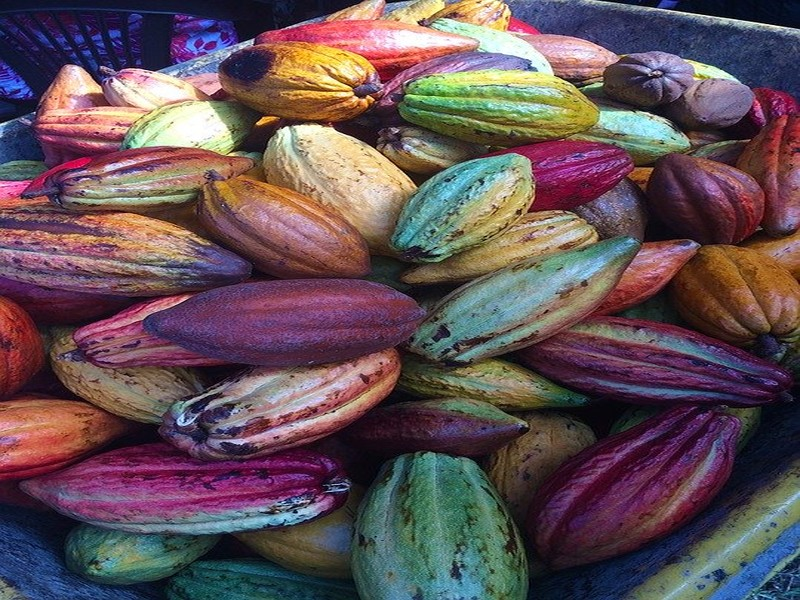Cacaopod: (144, 277, 426, 362), (396, 67, 601, 149), (392, 153, 530, 264), (217, 41, 386, 124)
